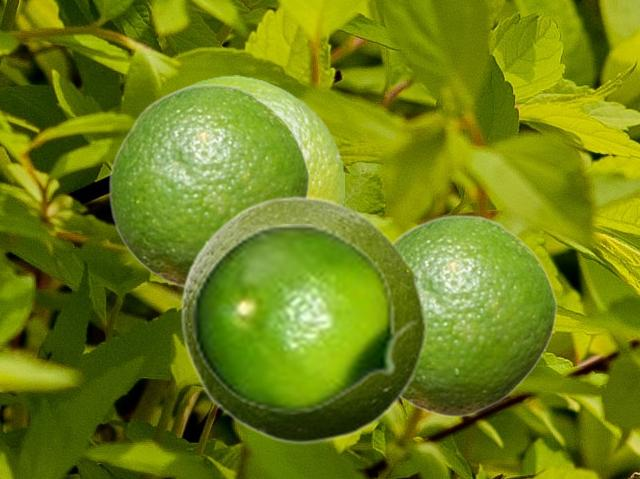calamansi: (180, 193, 427, 444), (190, 224, 418, 413), (108, 83, 309, 288), (394, 214, 556, 417), (170, 75, 343, 203)
